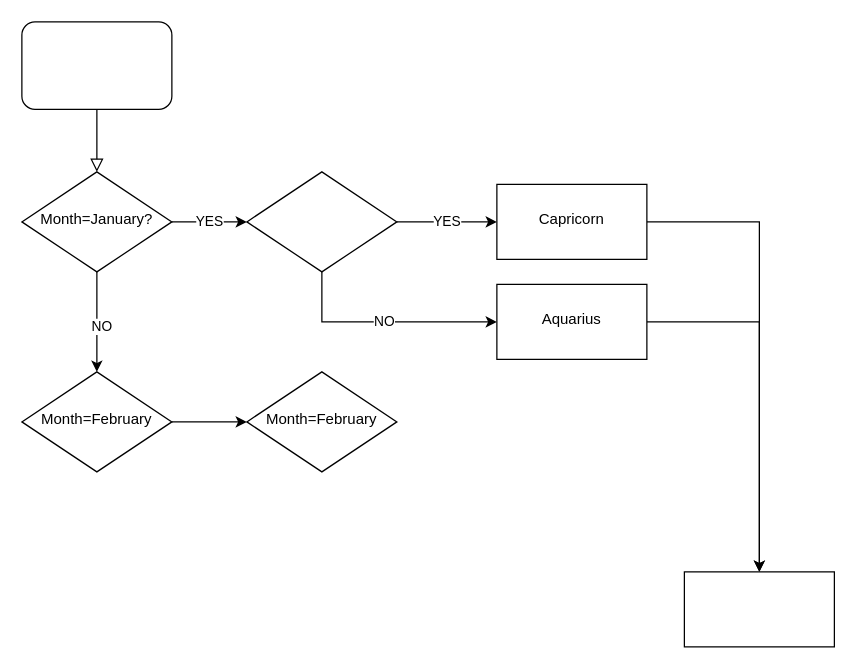
Image size: 856x669. Some labels were removed from this diagram. The centre of each missing label's shape, as x and y in pixels:
"Day<=19" goes at point 321,221.
"END" goes at point 758,609.
"Take from user month and day of his birth and store in two variables" goes at point 96,65.
